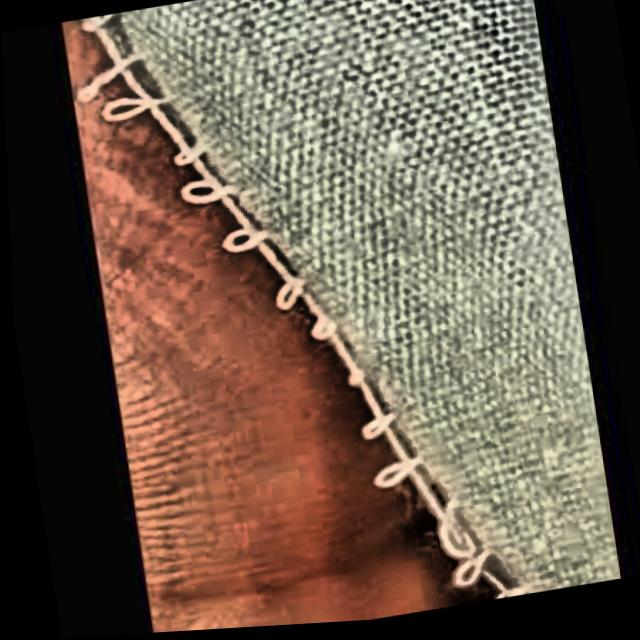Stitch: (72, 0, 553, 637)
